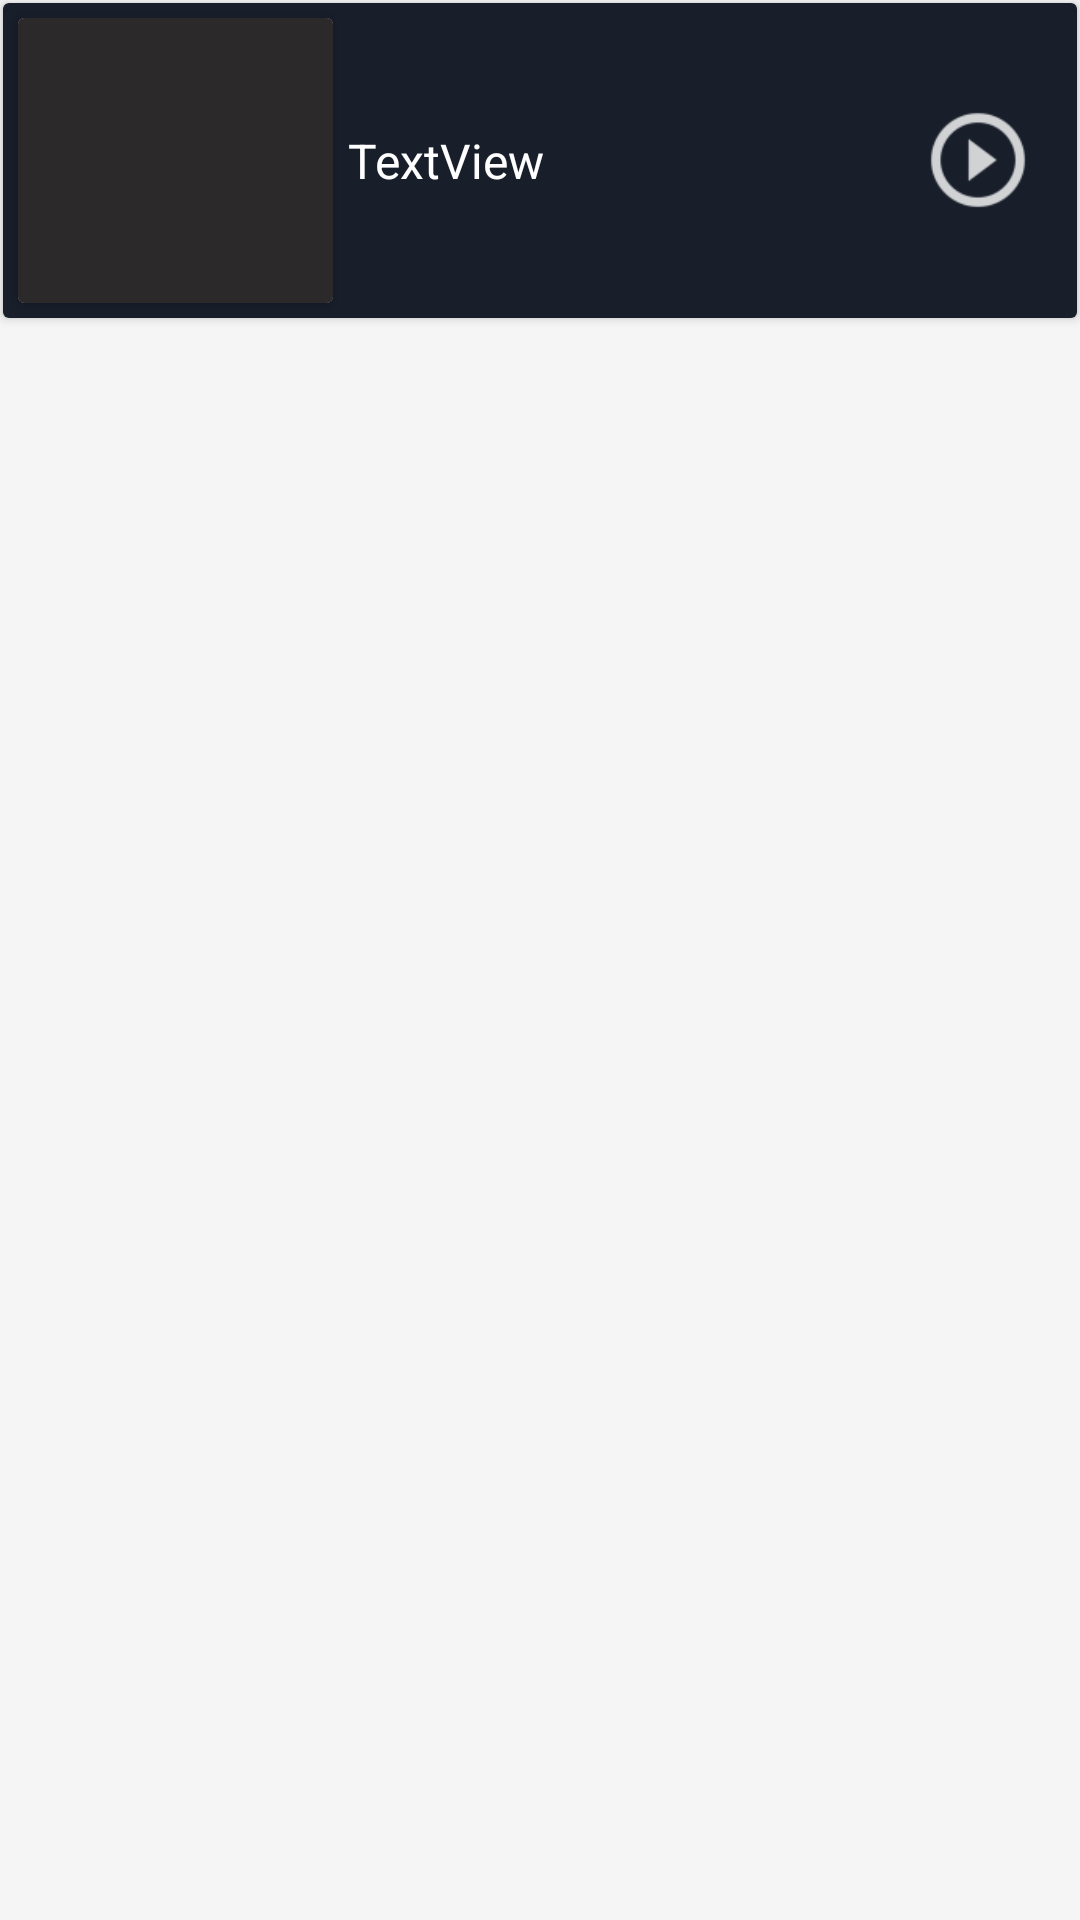

Where icons sit on this 1080*1920 app screen, as bbox(x1, y1, x2, y2):
play: bbox(931, 113, 1025, 207)
